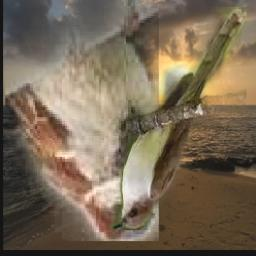Cuckoo: (110, 8, 247, 231)
Sparrow: (6, 0, 160, 242)
